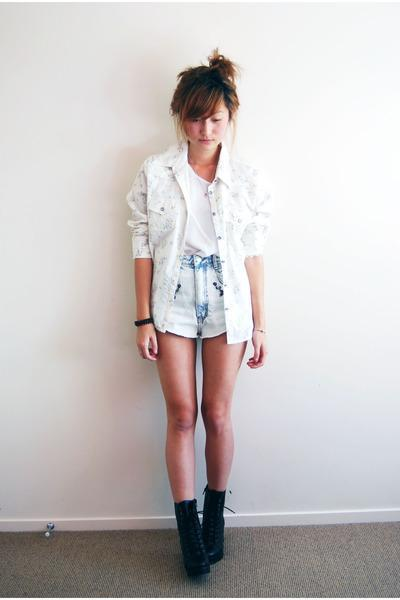jacket: (133, 146, 268, 354)
shirt: (165, 166, 226, 265)
shoe: (174, 492, 226, 583)
shorts: (164, 254, 227, 338)
